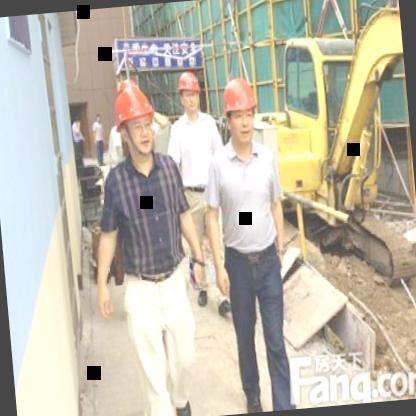head: (93, 111, 104, 125)
helmet: (110, 84, 160, 162), (218, 72, 266, 150), (176, 69, 204, 116)
